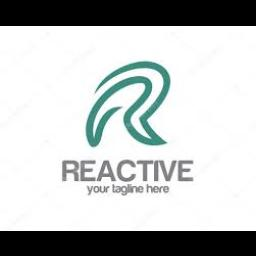a: (96, 158, 116, 182)
c: (116, 156, 136, 182)
e: (80, 159, 98, 181)
i: (154, 158, 158, 182)
r: (60, 158, 80, 182)
t: (137, 158, 155, 182)
v: (158, 159, 178, 181)
